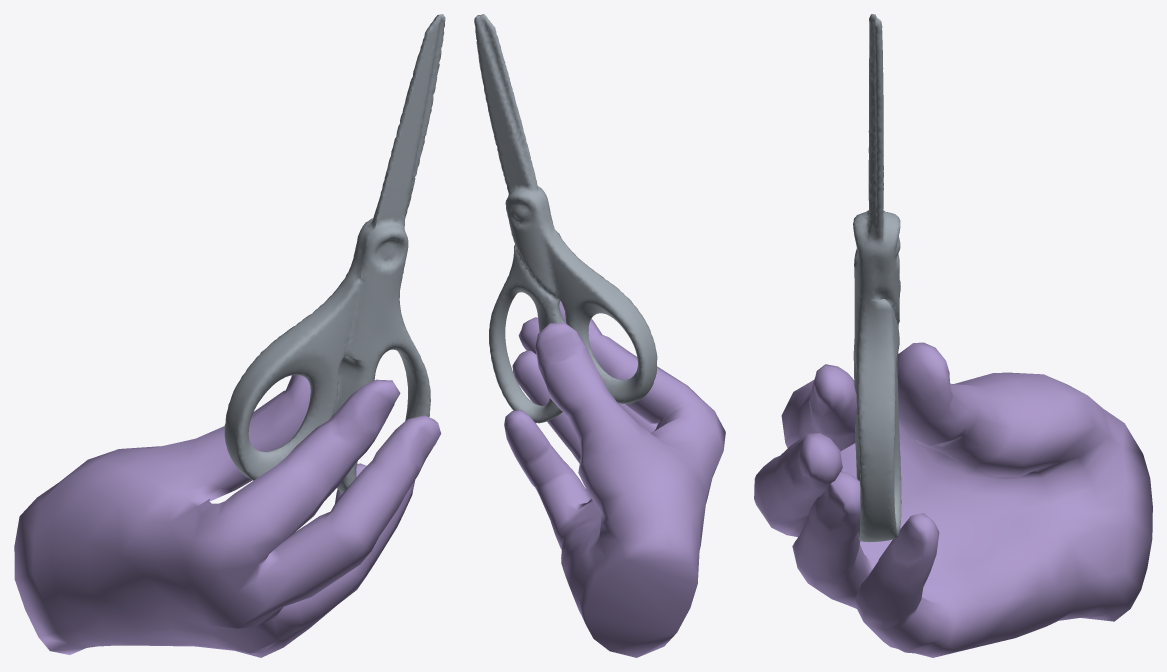
File: ours_scissors.glb
3 renders of one model, left to right at view 1: azimuth 30°, elevation 25°; view 2: azimuth 150°, elevation 25°; view 3: azimuth 270°, elevation 25°, orthographic. The views are drawn at different scales.
Size of the model in its own units: 0.1565 by 0.2739 by 0.1293.
